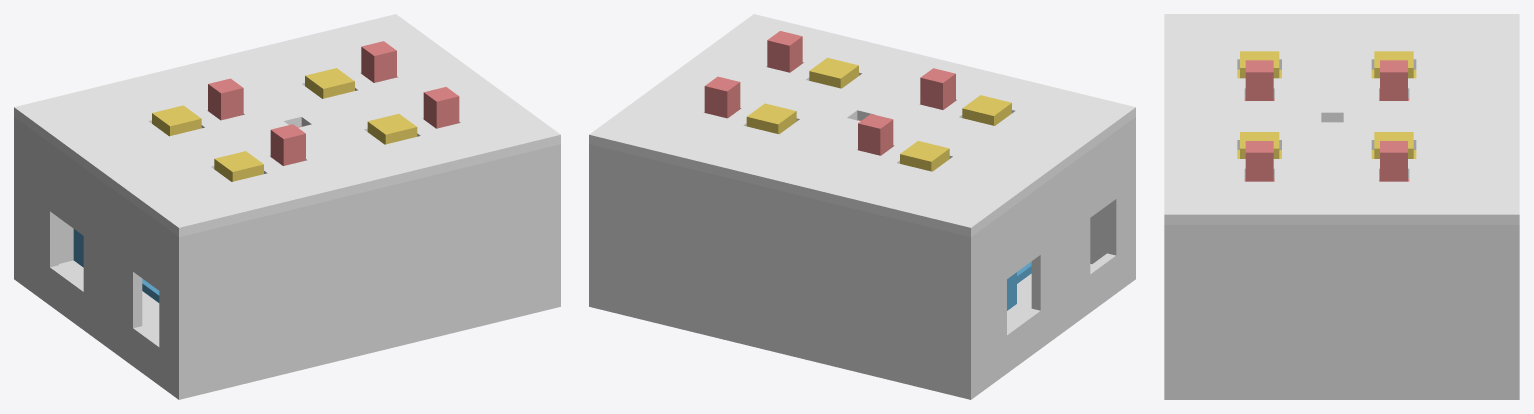
File: design.glb
3 views of the same model, side by side, from view 1: azimuth 30°, elevation 25°; view 2: azimuth 150°, elevation 25°; view 3: azimuth 270°, elevation 25° (orthographic). The views are drawn at different scales.
Visible parts, largest first — view 1: base, lid, led-yellow, led-blue, led-red, led-green, btn-yellow, btn-blue, btn-red, btn-green, uno; view 2: base, lid, led-green, led-yellow, led-red, led-blue, btn-green, btn-yellow, btn-red, btn-blue, uno; view 3: lid, base, led-blue, led-yellow, led-red, led-green, btn-blue, btn-red, btn-yellow, btn-green.
Part boxes in pixels (bbox=[...]): base: bbox=[14, 117, 560, 399]; lid: bbox=[14, 14, 560, 237]; led-yellow: bbox=[423, 87, 459, 128]; led-blue: bbox=[270, 124, 305, 165]; led-red: bbox=[208, 78, 243, 120]; led-green: bbox=[361, 41, 396, 82]; btn-yellow: bbox=[367, 113, 417, 144]; btn-blue: bbox=[214, 151, 263, 181]; btn-red: bbox=[152, 105, 201, 136]; btn-green: bbox=[305, 68, 354, 98]; uno: bbox=[73, 229, 159, 302]; base: bbox=[589, 117, 1135, 399]; lid: bbox=[589, 14, 1135, 237]; led-green: bbox=[704, 76, 740, 118]; led-yellow: bbox=[767, 31, 802, 72]; led-red: bbox=[858, 114, 893, 155]; led-blue: bbox=[920, 68, 955, 109]; btn-green: bbox=[746, 103, 796, 134]; btn-yellow: bbox=[809, 57, 858, 88]; btn-red: bbox=[900, 141, 949, 171]; btn-blue: bbox=[962, 95, 1011, 125]; uno: bbox=[1007, 261, 1031, 310]; lid: bbox=[1164, 14, 1519, 224]; base: bbox=[1164, 225, 1519, 399]; led-blue: bbox=[1244, 60, 1274, 100]; led-yellow: bbox=[1244, 141, 1274, 181]; led-red: bbox=[1379, 60, 1409, 100]; led-green: bbox=[1379, 141, 1409, 181]; btn-blue: bbox=[1237, 51, 1281, 78]; btn-red: bbox=[1371, 51, 1416, 78]; btn-yellow: bbox=[1237, 132, 1281, 158]; btn-green: bbox=[1371, 132, 1416, 158].
Bounding box in the file's own units: 0.0848 × 0.0421 × 0.0634.
